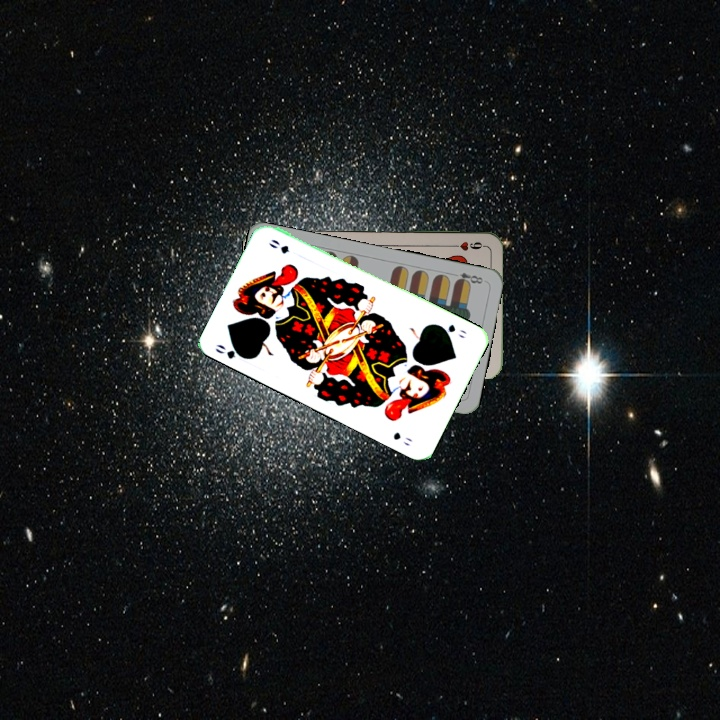E8: (447, 268, 486, 288)
GO: (211, 340, 251, 362), (434, 320, 470, 341)
H9: (446, 238, 486, 253)
